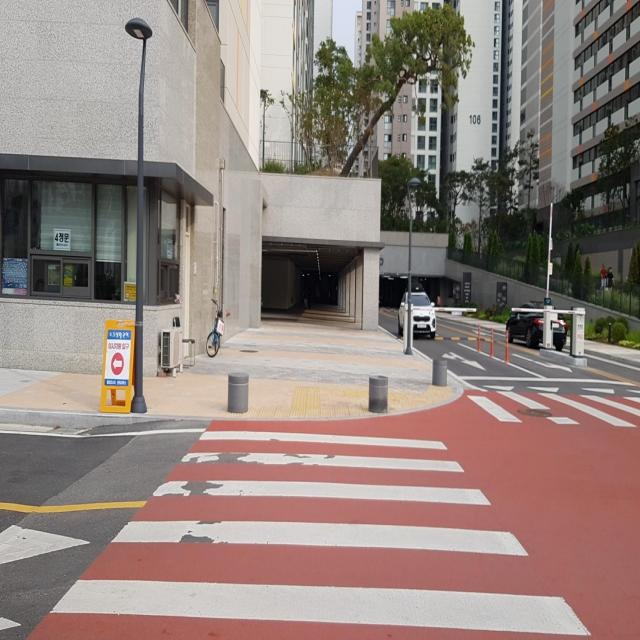횡단보도: (47, 425, 593, 640), (464, 372, 640, 431)
